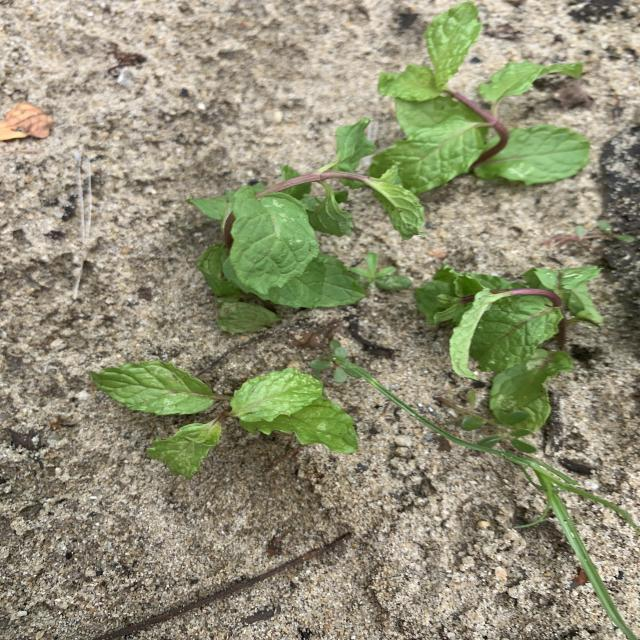crop: (189, 119, 424, 332), (370, 2, 590, 196), (415, 266, 603, 432), (93, 360, 356, 478)
weed: (343, 360, 640, 640), (438, 390, 535, 453), (545, 220, 635, 247), (351, 254, 410, 289), (310, 340, 348, 383)
